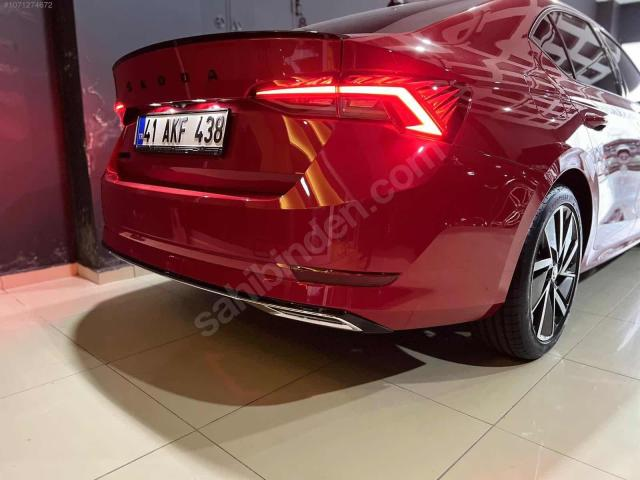plaka: (134, 109, 229, 155)
